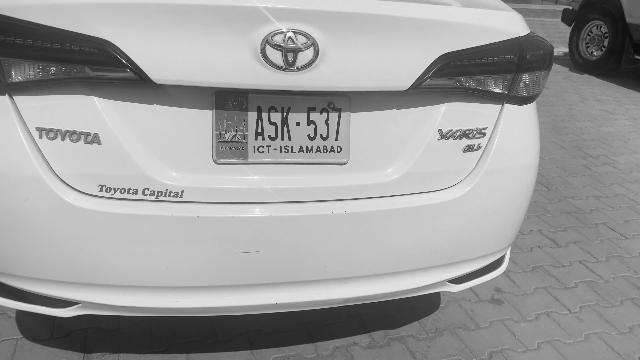Number: (251, 103, 345, 147)
